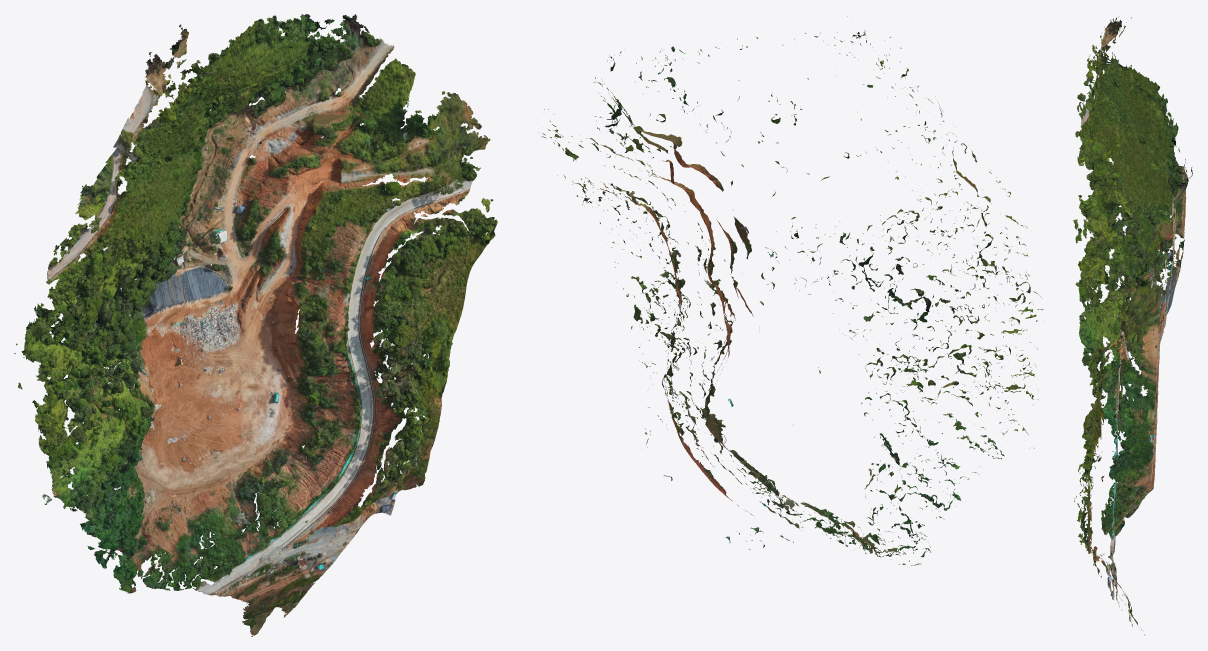
The model's file is modelo.glb.
The picture shows the model from 3 angles, left to right: view 1: azimuth 30°, elevation 25°; view 2: azimuth 150°, elevation 25°; view 3: azimuth 270°, elevation 25°; orthographic projection. The views are drawn at different scales.
Size of the model in its own units: 302 by 370 by 69.3.
41 materials, 41 textured.
